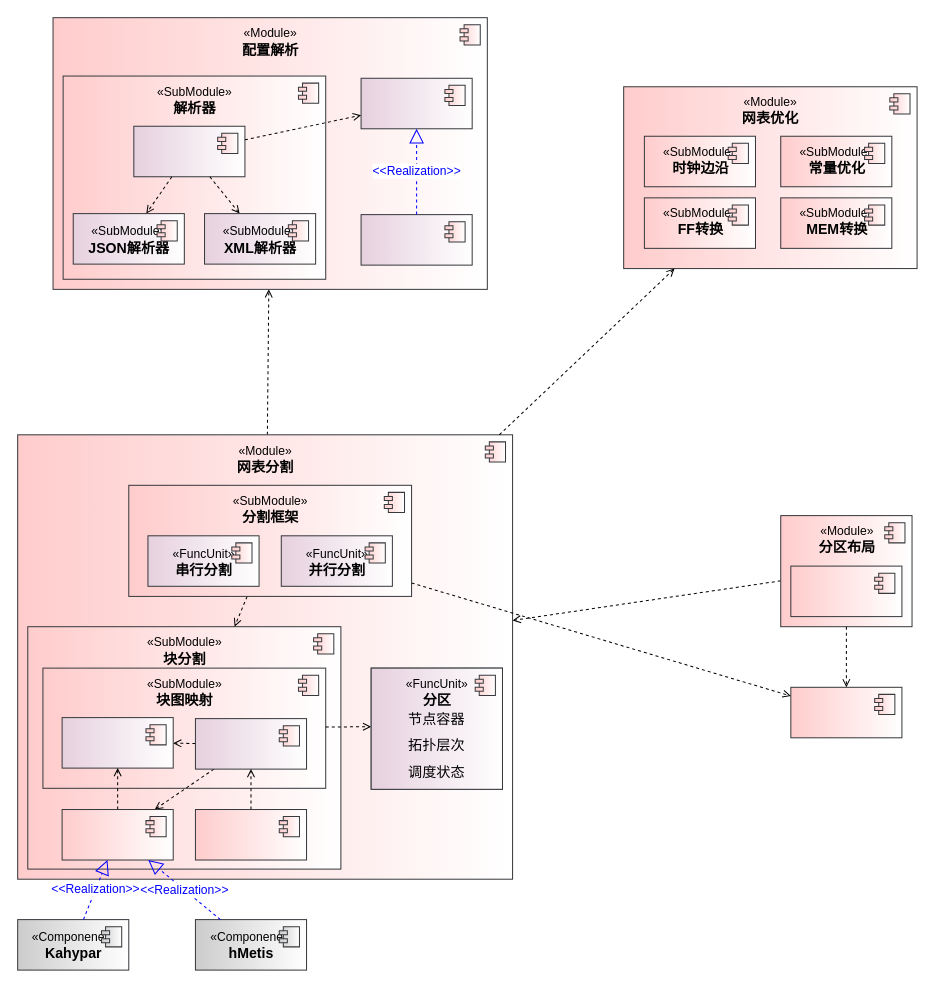
Image size: 935x988. Some labels were removed from this diagram. The shapes that lost their labels are listed below. From the top down, each one's centre as x and y in pixels, then its label:
pixel 416 103: «FuncUnit» 编译选项
pixel 189 151: «FuncUnit» 解析器工厂
pixel 416 239: «FuncUnit» 默认配置
pixel 846 591: «SubModule» 布局算法
pixel 846 712: «Module» 硬件拓扑
pixel 117 742: «FuncUnit» 超图映射
pixel 250 743: «FuncUnit» 结果映射
pixel 117 834: «SubModule» 分割算法
pixel 250 834: «SubModule» 结果校验
